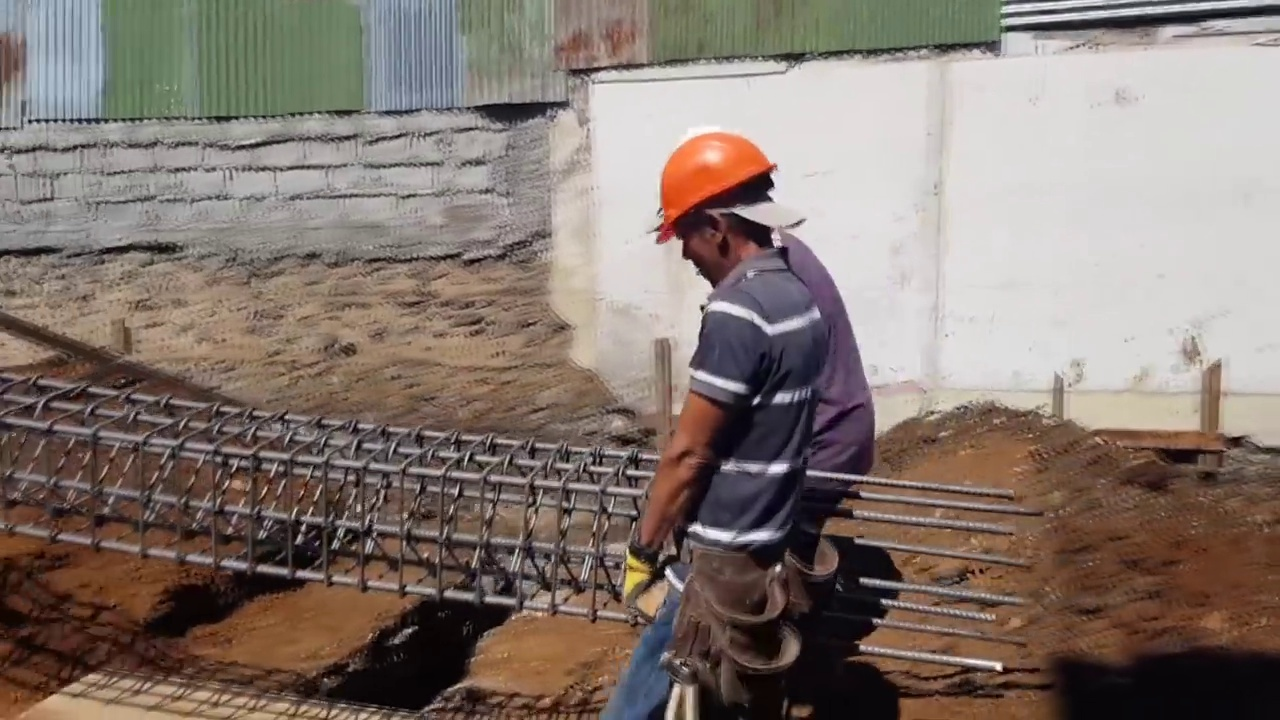helmet: (658, 134, 777, 241)
helmet-on: (650, 132, 784, 291)
person: (600, 141, 879, 720), (777, 232, 879, 640)
